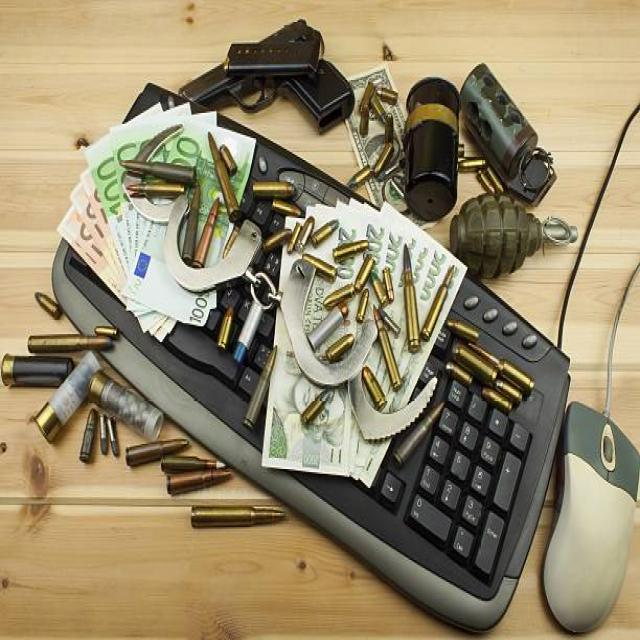grenade: (451, 190, 580, 285)
